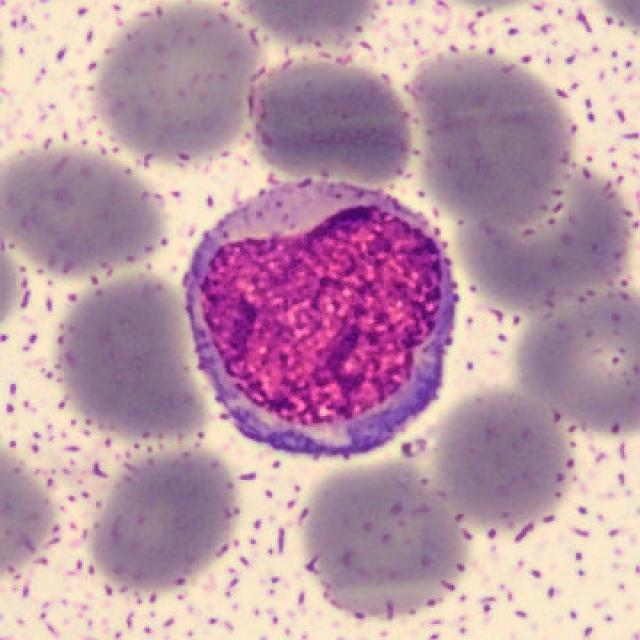Mieloblasto: (183, 180, 459, 460)
